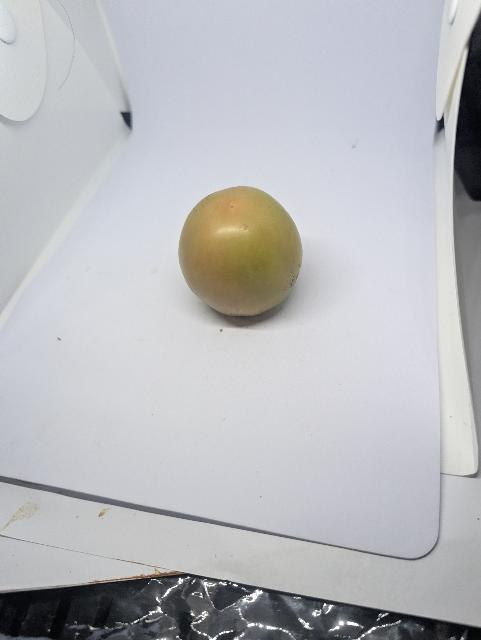breaker: (177, 184, 306, 321)
